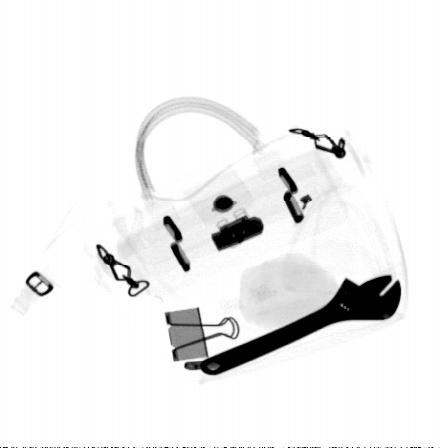Wrench: (198, 275, 402, 376)
